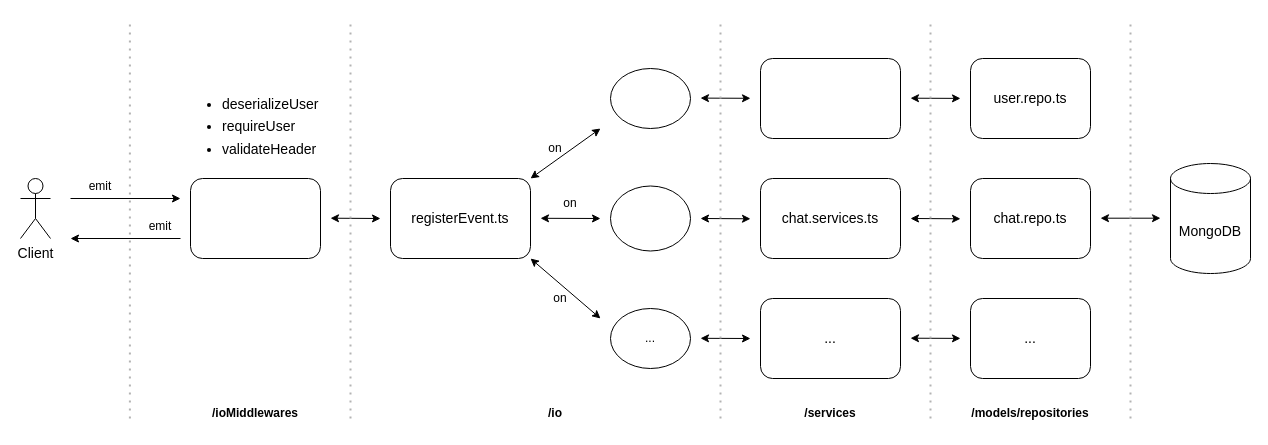
Image size: 1268x445. Some labels were removed from this diagram. The shapes that lost their labels are listed below. From the top down, each one's centre as x and y in pixels, then its label:
At (650,98): "friend.event".
At (830,98): "user.services.ts".
At (255,218): "middlewares".
At (650,218): "chat.event".
